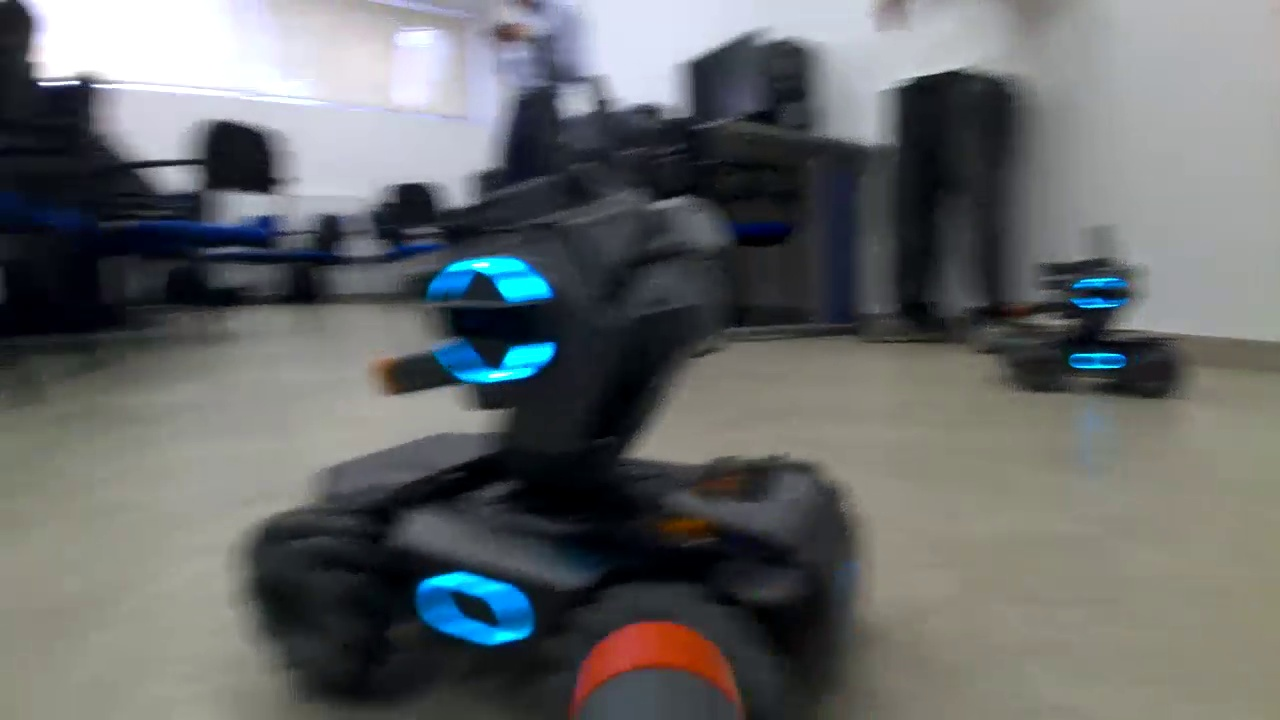robot: (221, 182, 868, 720), (986, 248, 1190, 410)
